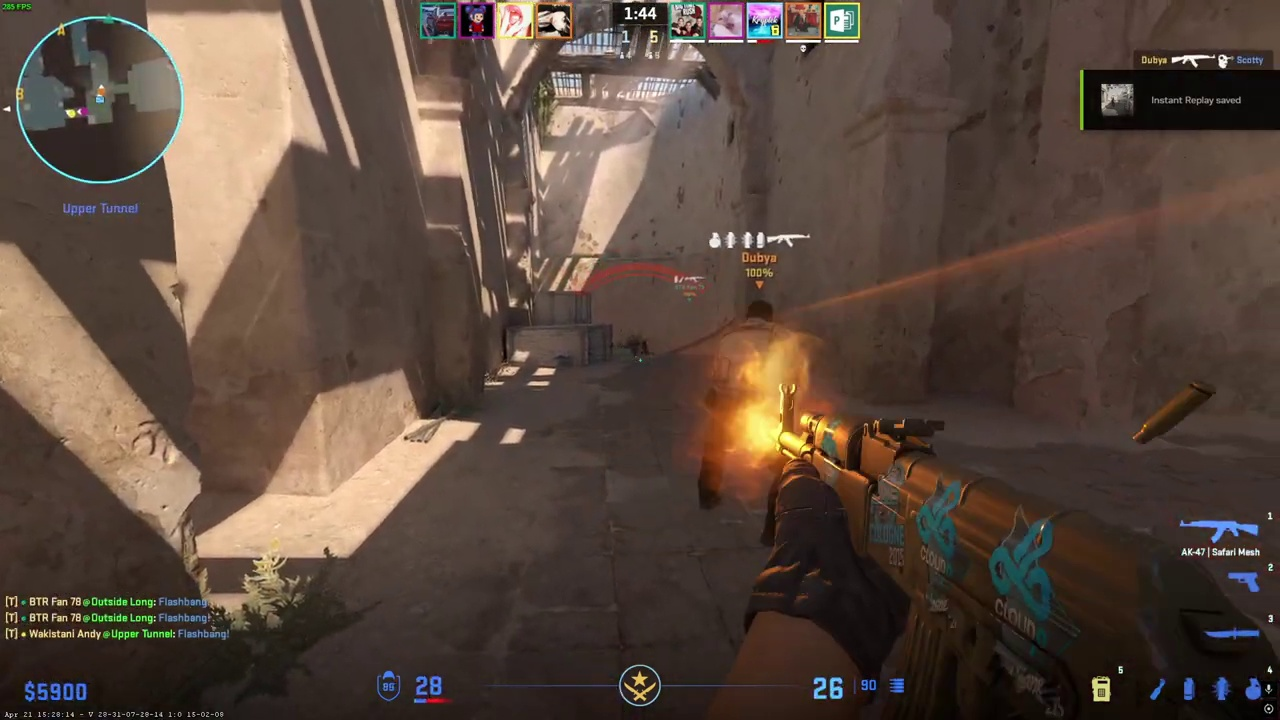Terrorist: (696, 297, 834, 544)
